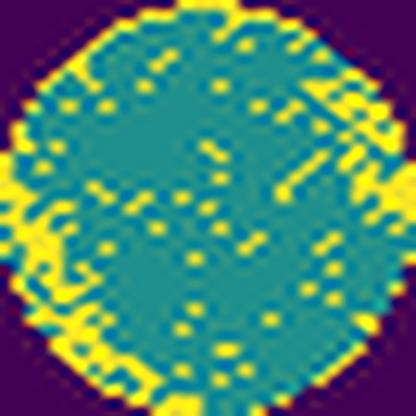Edge-Loc: (0, 153, 197, 416), (349, 160, 415, 232)
